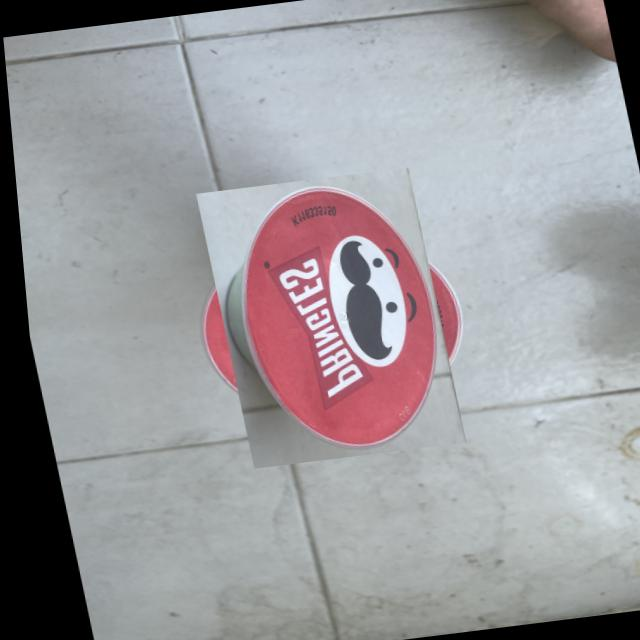a pringles: (177, 180, 471, 455)
